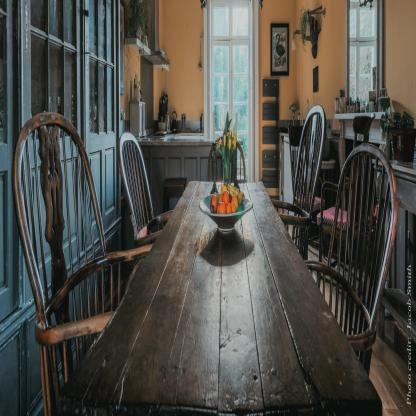chair: (9, 99, 150, 406), (307, 148, 393, 382), (314, 110, 377, 274), (275, 103, 330, 248), (109, 119, 161, 243), (207, 133, 247, 178)
door: (204, 0, 259, 179)
table: (64, 179, 382, 416), (133, 124, 222, 189), (379, 157, 416, 303)
